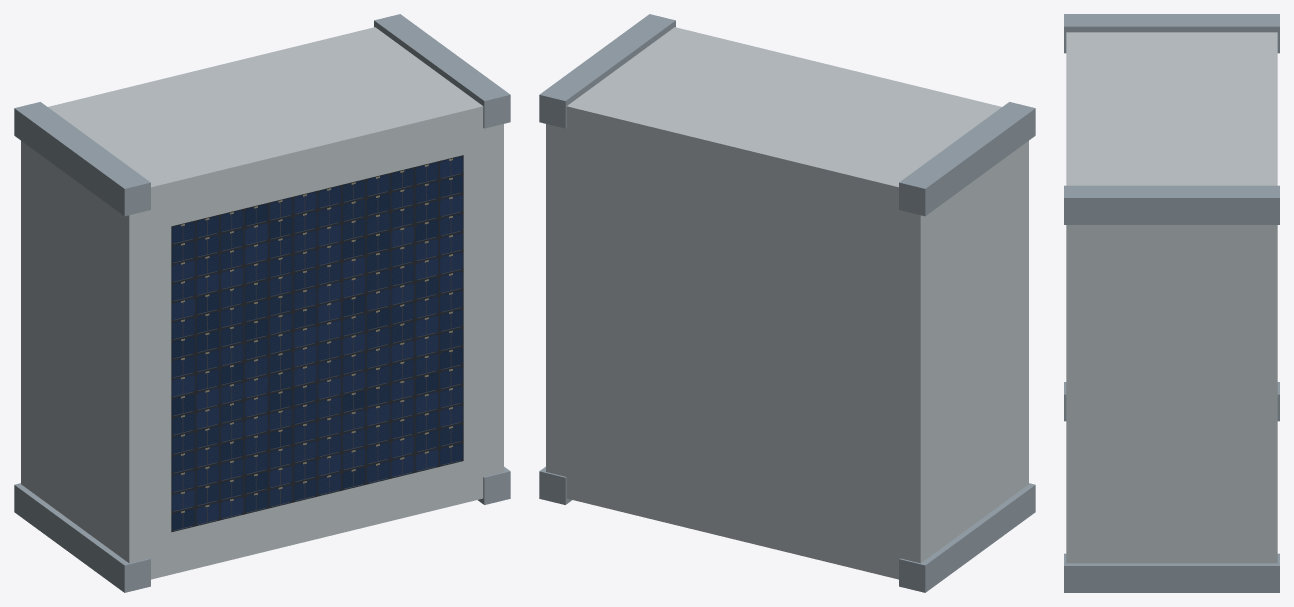
Rendered from ref-cubesat-0-5u-40045.glb.
3 renders of one model, left to right at view 1: azimuth 30°, elevation 25°; view 2: azimuth 150°, elevation 25°; view 3: azimuth 270°, elevation 25°, orthographic. The views are drawn at different scales.
Parts seen in each view (by area): view 1: Spacecraft body, Body-mounted cells, Dispenser rail (×4); view 2: Spacecraft body, Dispenser rail (×4); view 3: Spacecraft body, Dispenser rail (×3).
Boxes of the visible parts, x1,y1,x2,y2 form: Spacecraft body: (21,27,503,579); Body-mounted cells: (171,155,463,532); Dispenser rail (×4): (14,14,510,592); Spacecraft body: (546,27,1028,579); Dispenser rail (×4): (539,14,1035,592); Spacecraft body: (1066,32,1277,563); Dispenser rail (×3): (1064,14,1279,592).
Size of the model in its own units: 0.103 by 0.103 by 0.051.
Materials: 3 (1 with a texture image).
